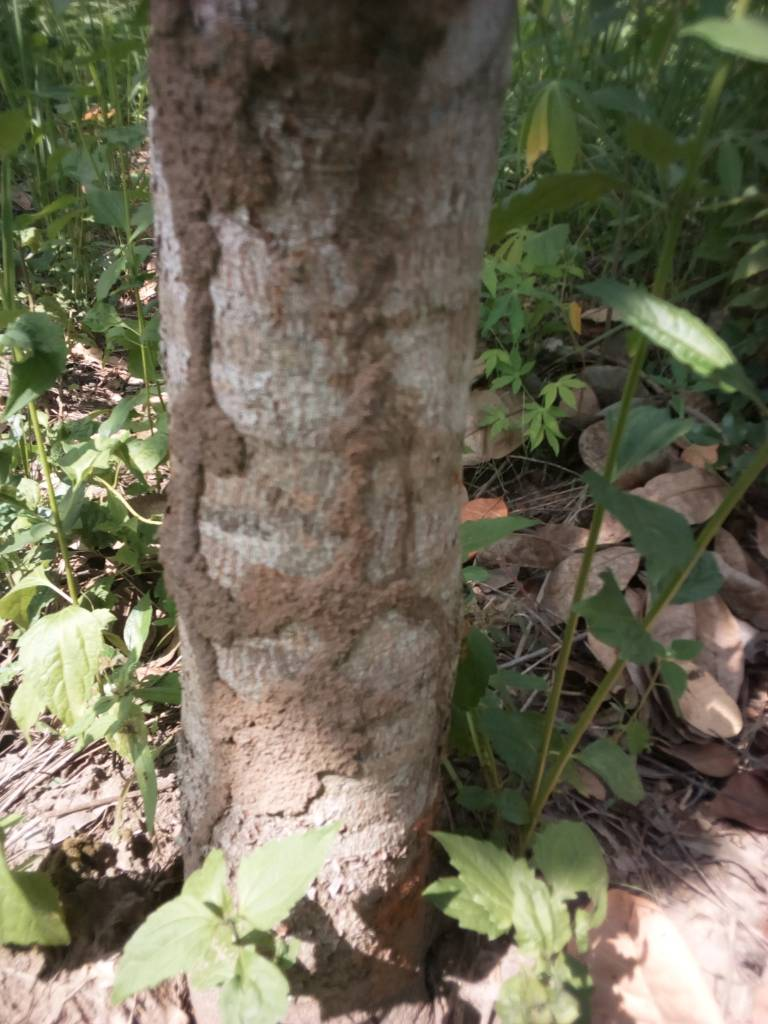Termites: (280, 27, 433, 833), (150, 10, 283, 853)
